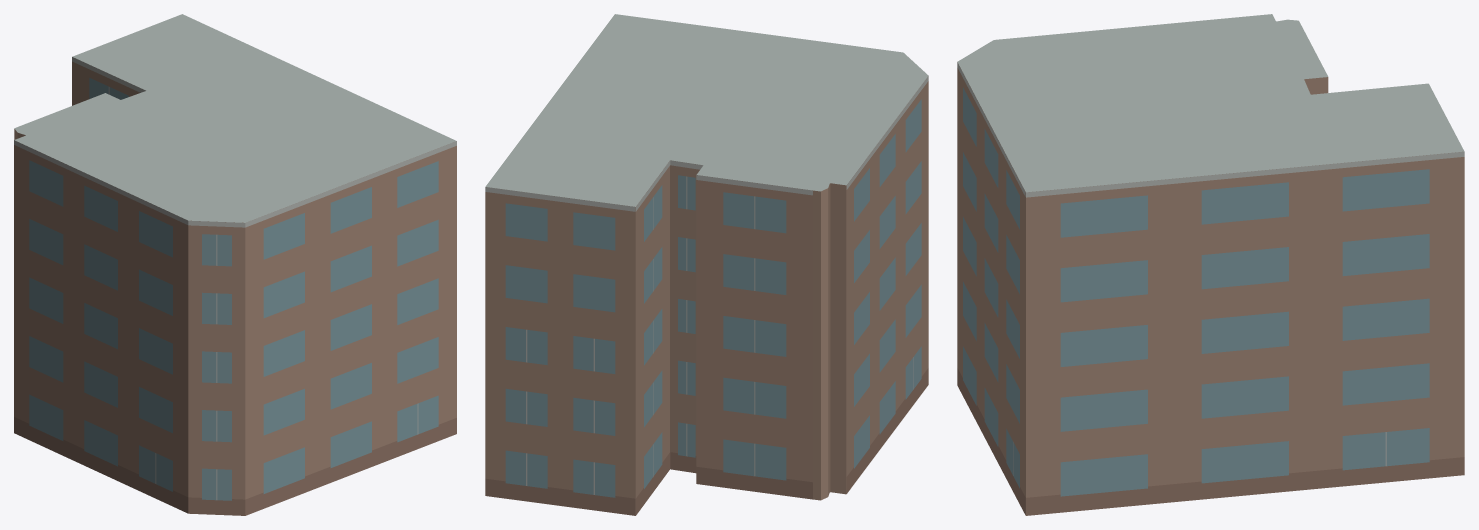
File: survey-upis-32697658.glb
3 renders of one model, left to right at view 1: azimuth 30°, elevation 25°; view 2: azimuth 150°, elevation 25°; view 3: azimuth 270°, elevation 25°, orthographic. The views are drawn at different scales.
Parts seen in each view (by area): view 1: survey-upis-32697658.tmp; view 2: survey-upis-32697658.tmp; view 3: survey-upis-32697658.tmp.
Boxes of the visible parts, x1,y1,x2,y2 form: survey-upis-32697658.tmp: (14, 14, 456, 515); survey-upis-32697658.tmp: (485, 14, 928, 515); survey-upis-32697658.tmp: (957, 14, 1464, 515).
Bounding box in the file's own units: 17.87 × 15.1 × 21.47.
